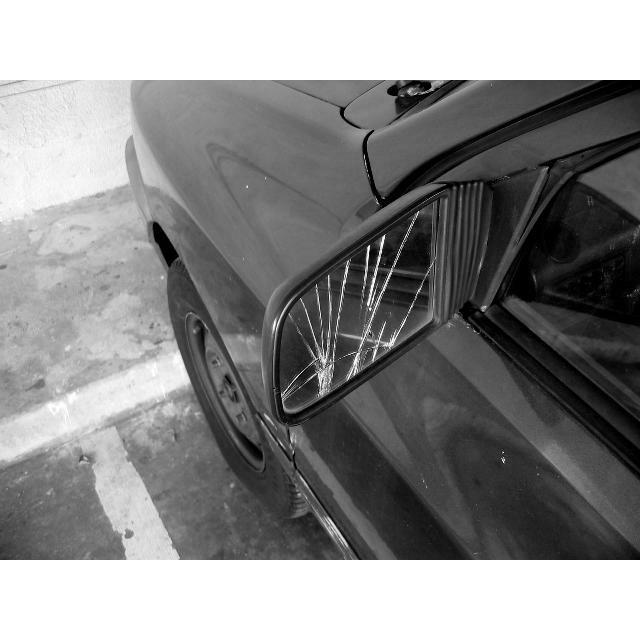Sidemirror-Damage: (220, 179, 535, 428)
